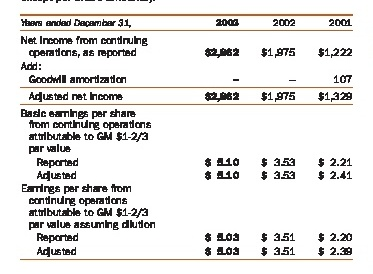table: (0, 0, 373, 274)
